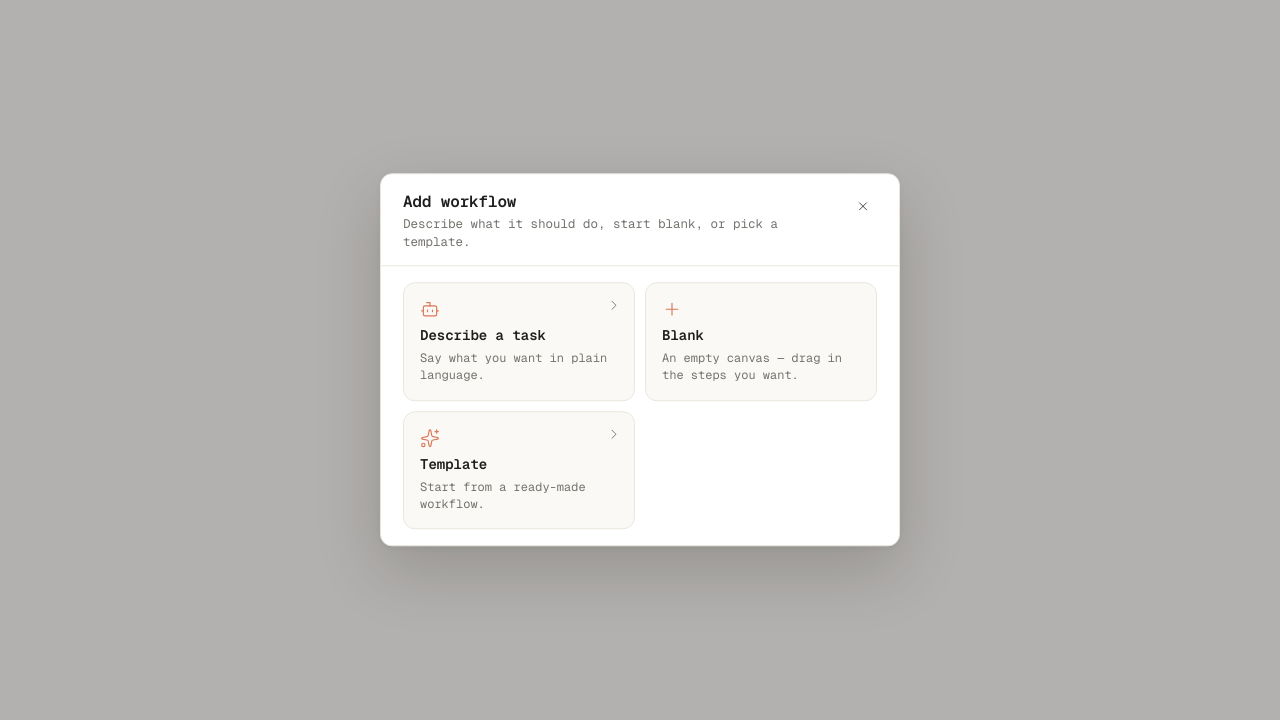
Scenario: AddWorkflowModal › Back returns from the template list to the choice
This screenshot has width=1280, height=720.
Click the button "Template Start from a ready-made workflow.".
click(519, 470)  # box [403, 411, 635, 530]
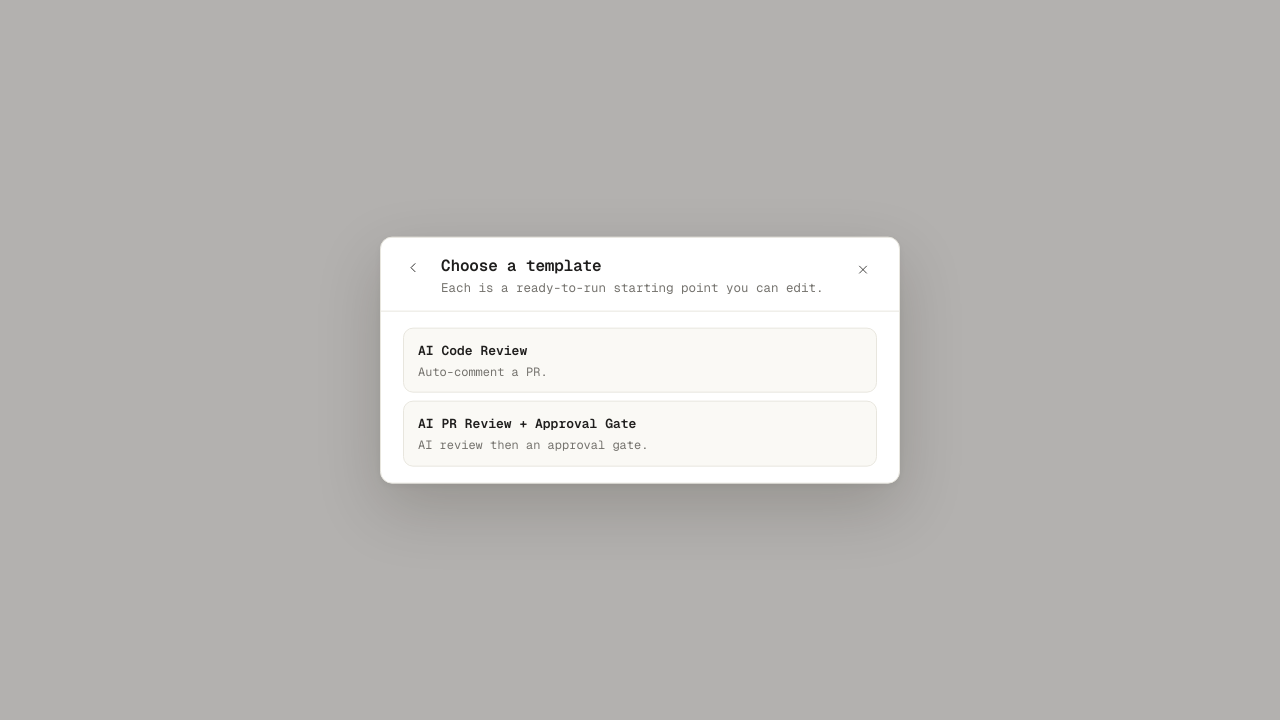
Click the button named "Back".
click(413, 268)  # box [399, 254, 427, 282]
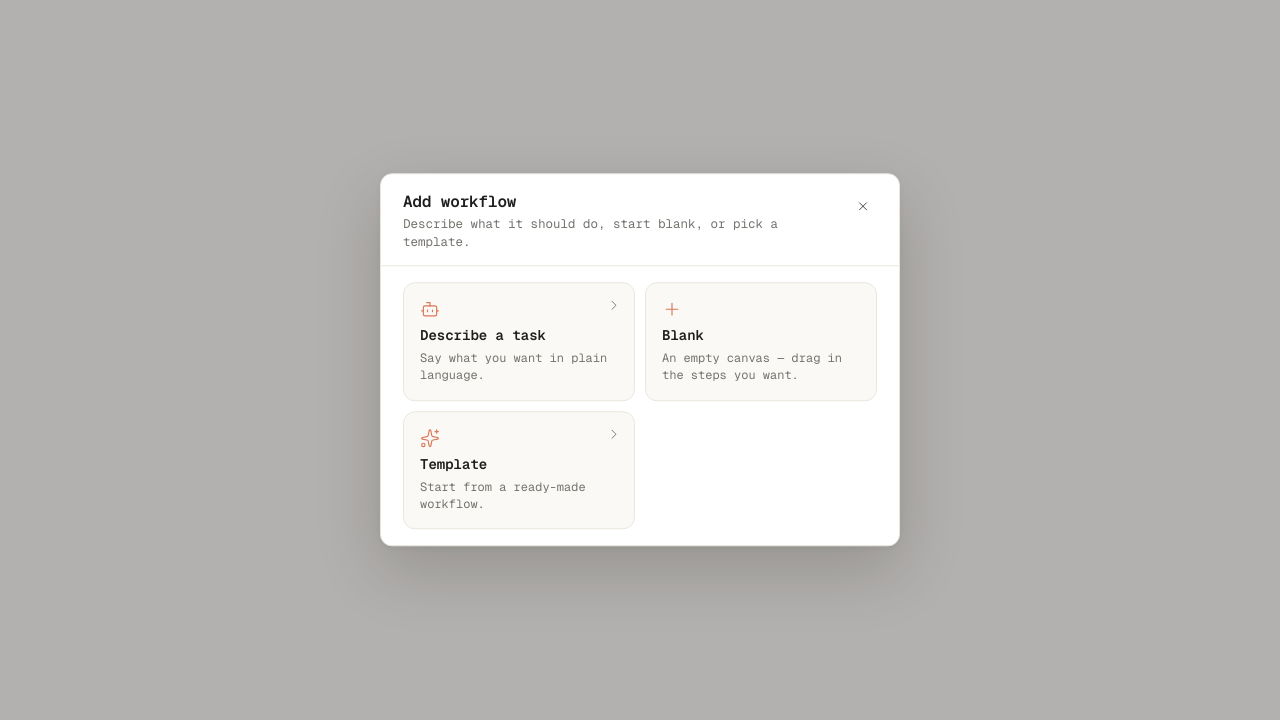
Check: the button "Blank An empty canvas — drag in the steps you want." is shown, box [645, 282, 877, 401]
Check: the button "AI PR Review + Approval Gate" is gone
